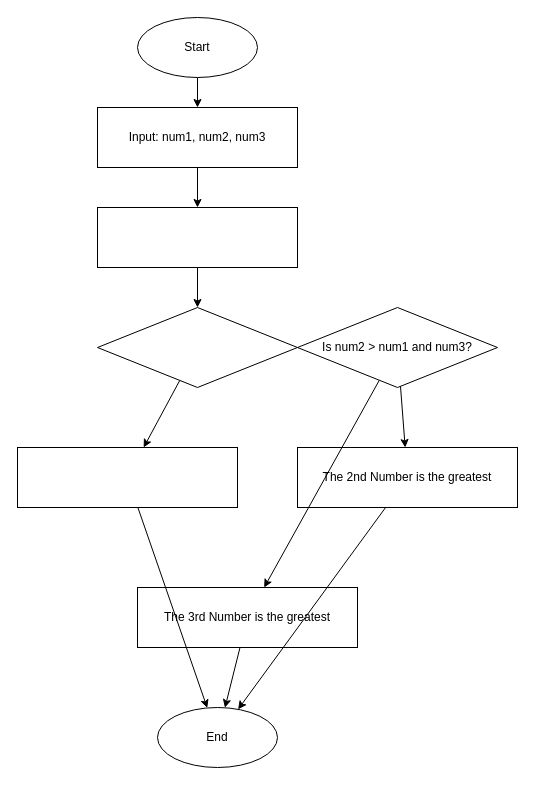
Image size: 535x785. Some labels were removed from this diagram. Here are the shapes that lost their labels. From the top down, the box of each, then its label:
(96, 206, 298, 268): Display: num1, num2, num3
(96, 306, 298, 388): Is num1 > num2 and num3?
(16, 446, 238, 508): The 1st Number is the greatest
